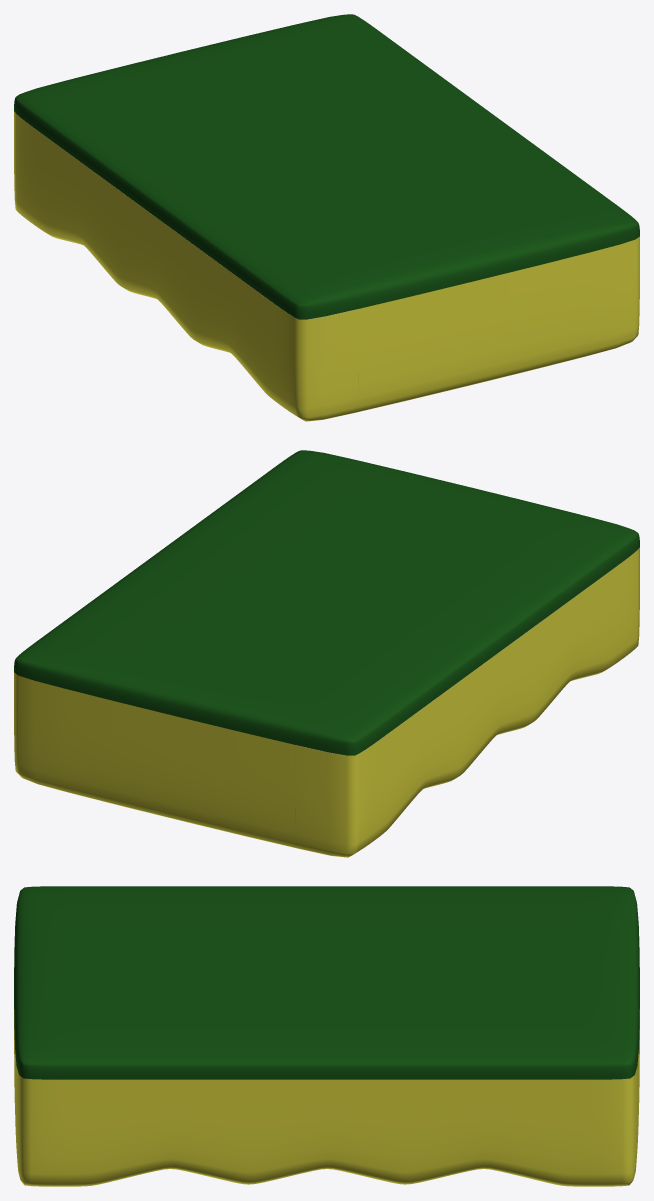
The model's file is Sponge 1.fbx.
The picture shows the model from 3 angles, top to bottom: view 1: azimuth 30°, elevation 25°; view 2: azimuth 150°, elevation 25°; view 3: azimuth 270°, elevation 25°; orthographic projection. The views are drawn at different scales.
Visible parts, largest first — view 1: pCube1; view 2: pCube1; view 3: pCube1.
Boxes of the visible parts, x1,y1,x2,y2 form: pCube1: [14, 14, 639, 421]; pCube1: [14, 450, 639, 857]; pCube1: [14, 886, 639, 1186].
Size of the model in its own units: 0.4716 by 0.1695 by 0.695.
